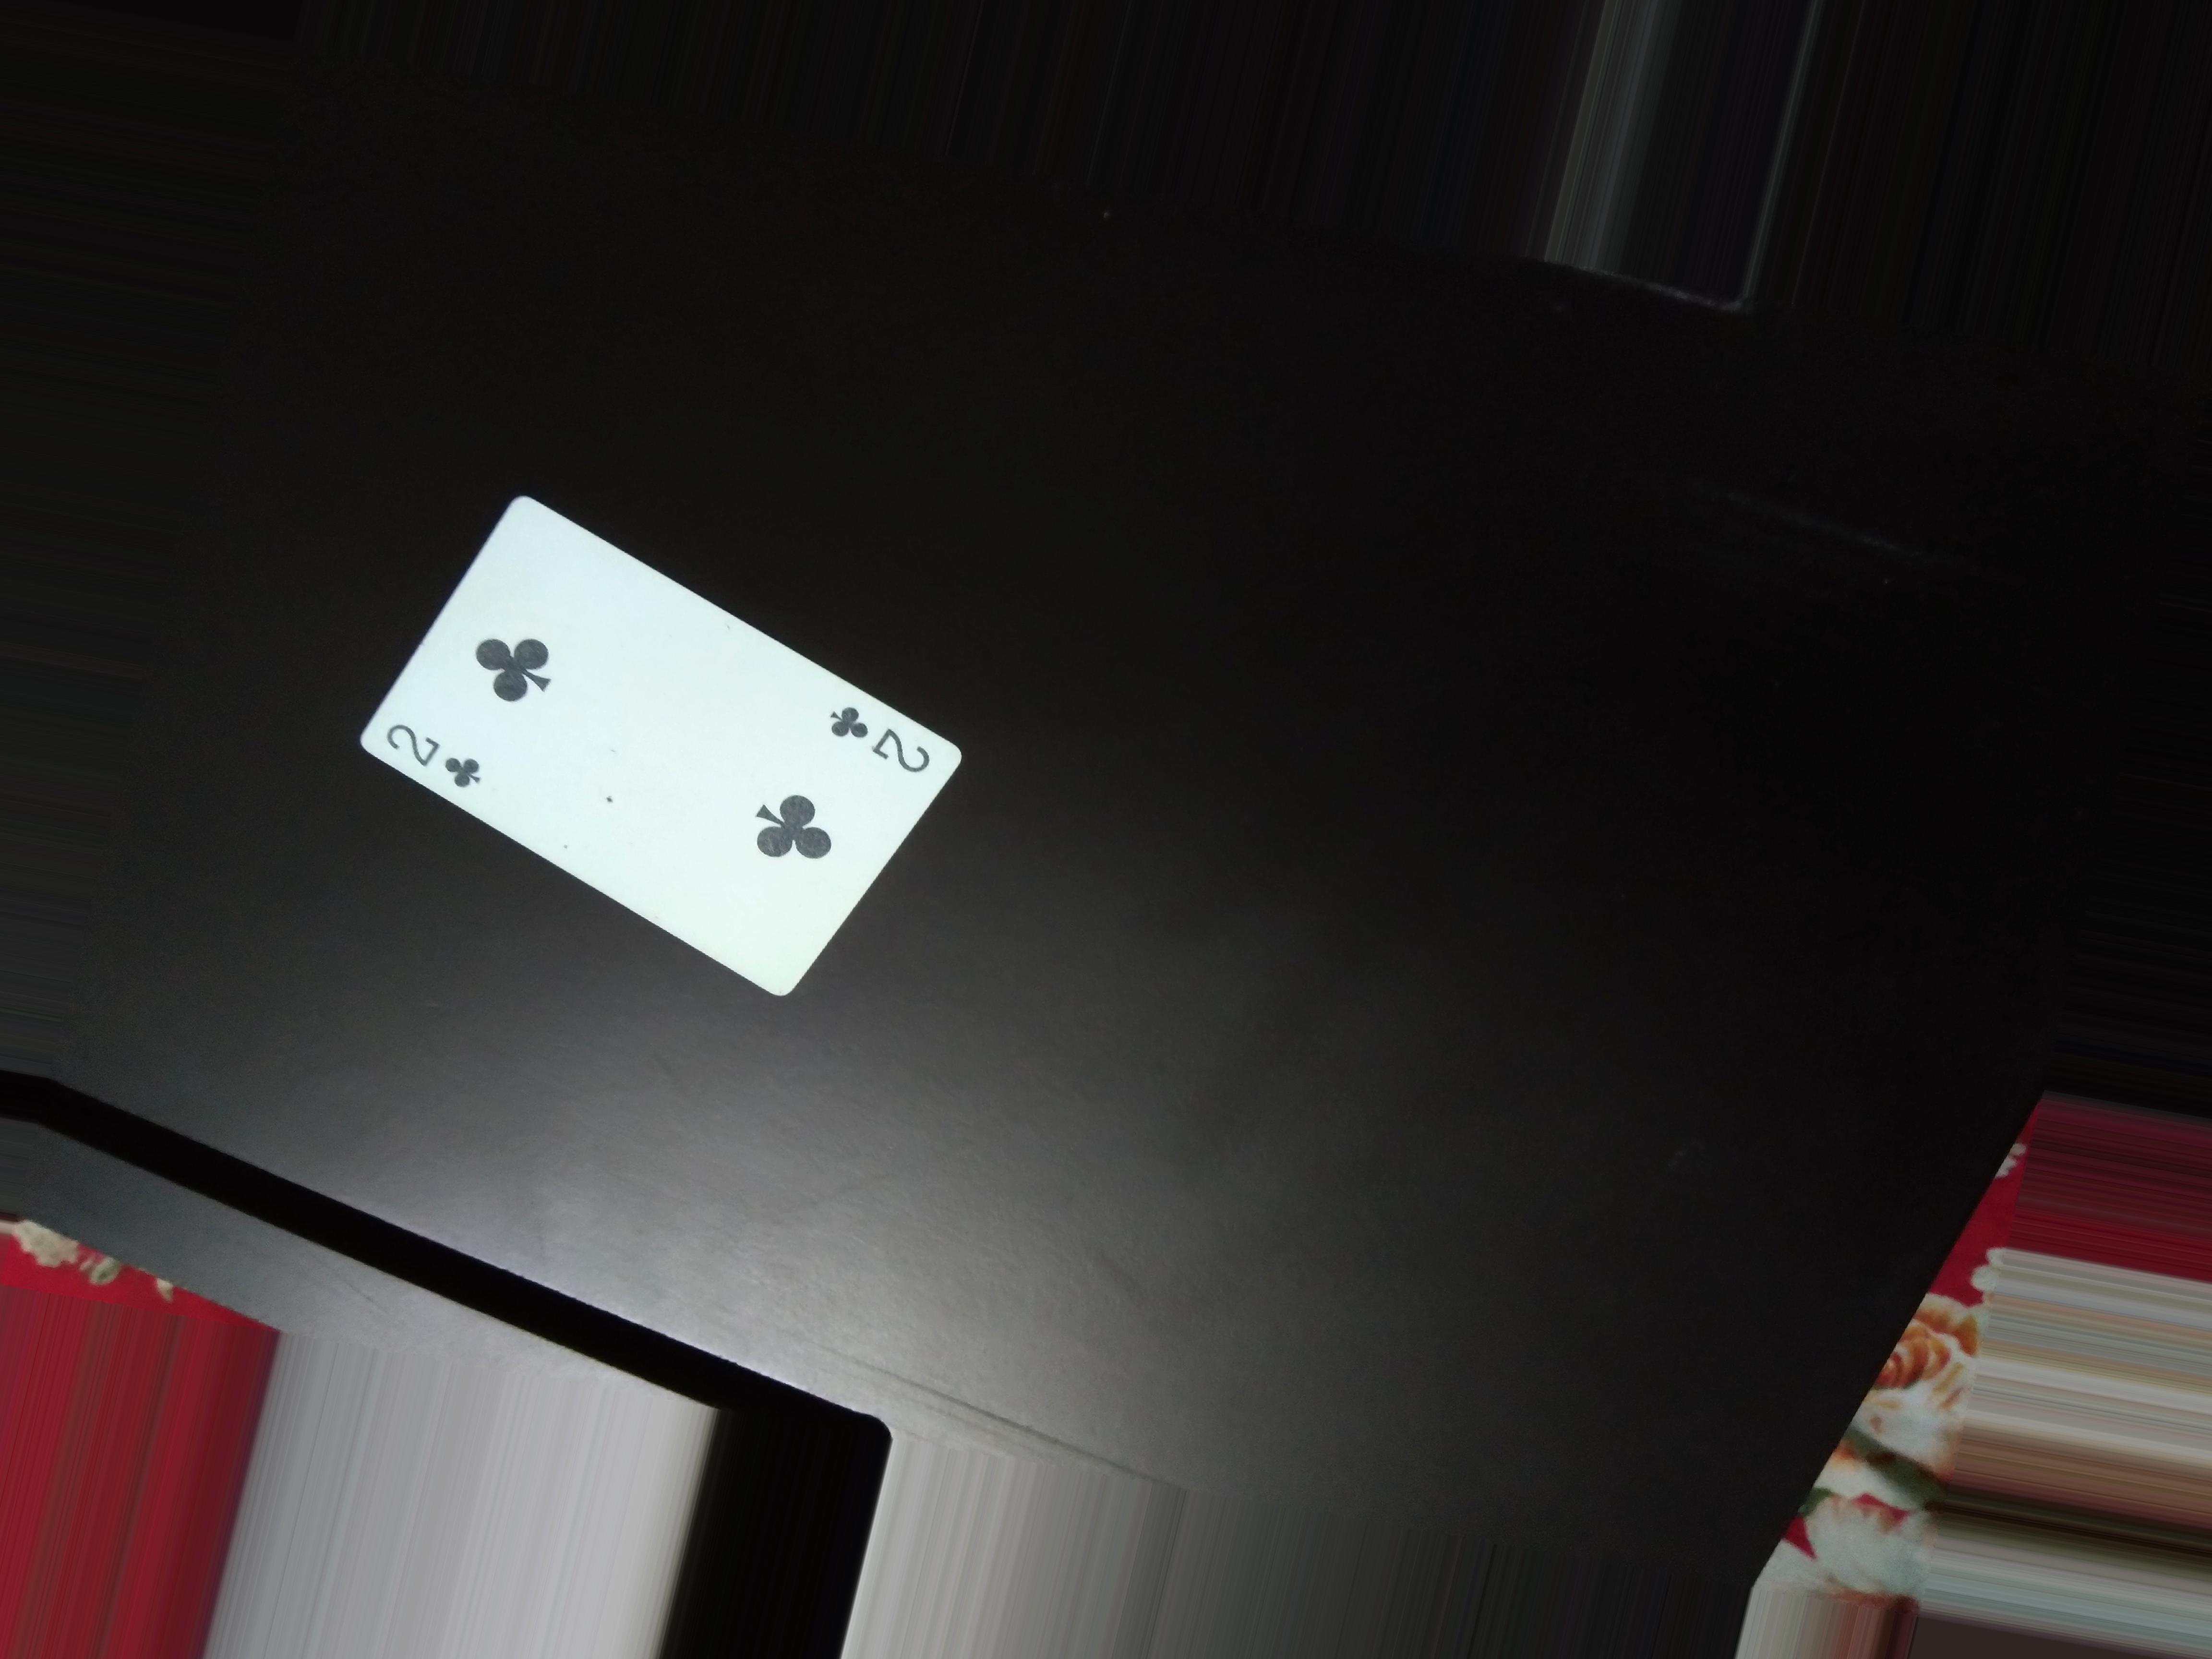2C: (376, 721, 505, 800)
